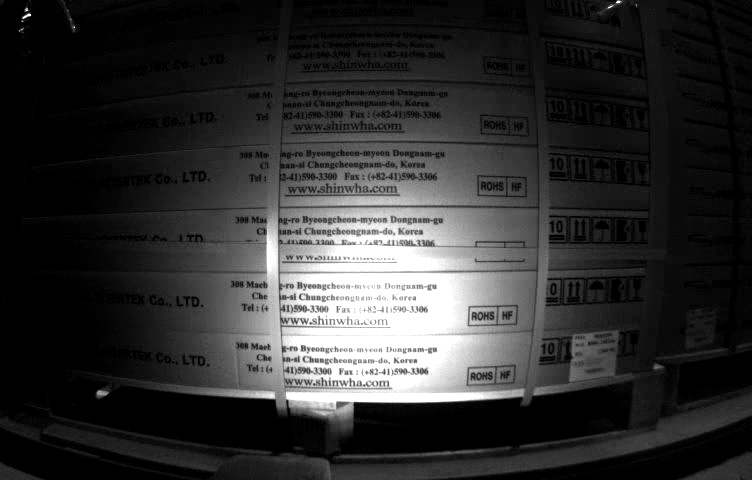True Barcode: (572, 333, 617, 378), (688, 307, 718, 345)
